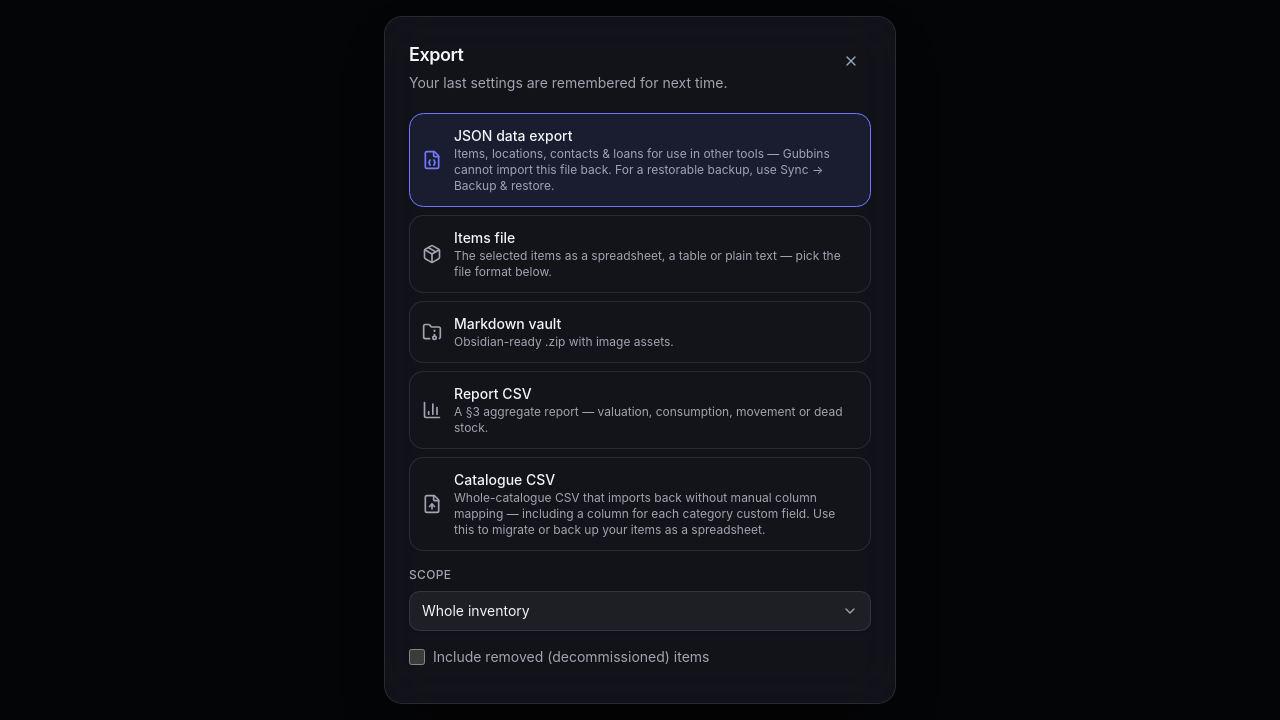
Test case: ExportWizard — Location scope › lists known locations with an item-count hint in the target picker
The image size is (1280, 720).
Click the dropdown named "Scope" at (640, 611), box [409, 591, 871, 631]
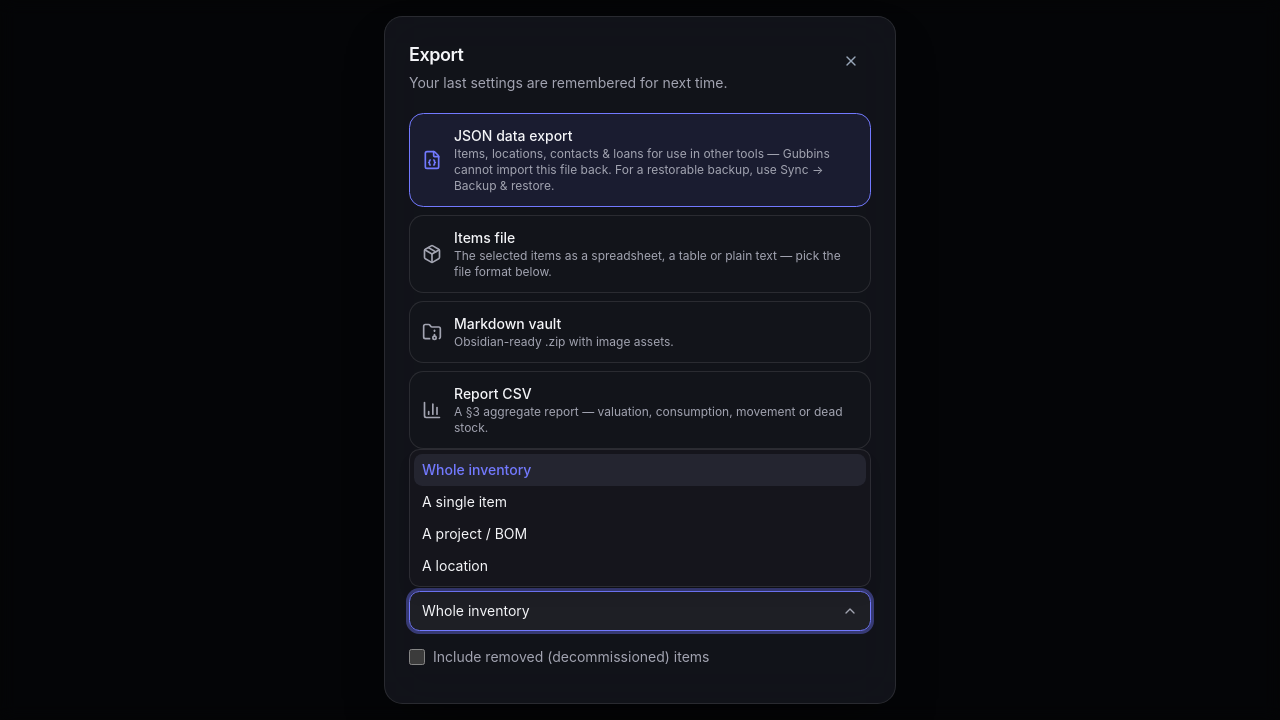
Click the option "A location" at (455, 566), box [422, 557, 488, 574]
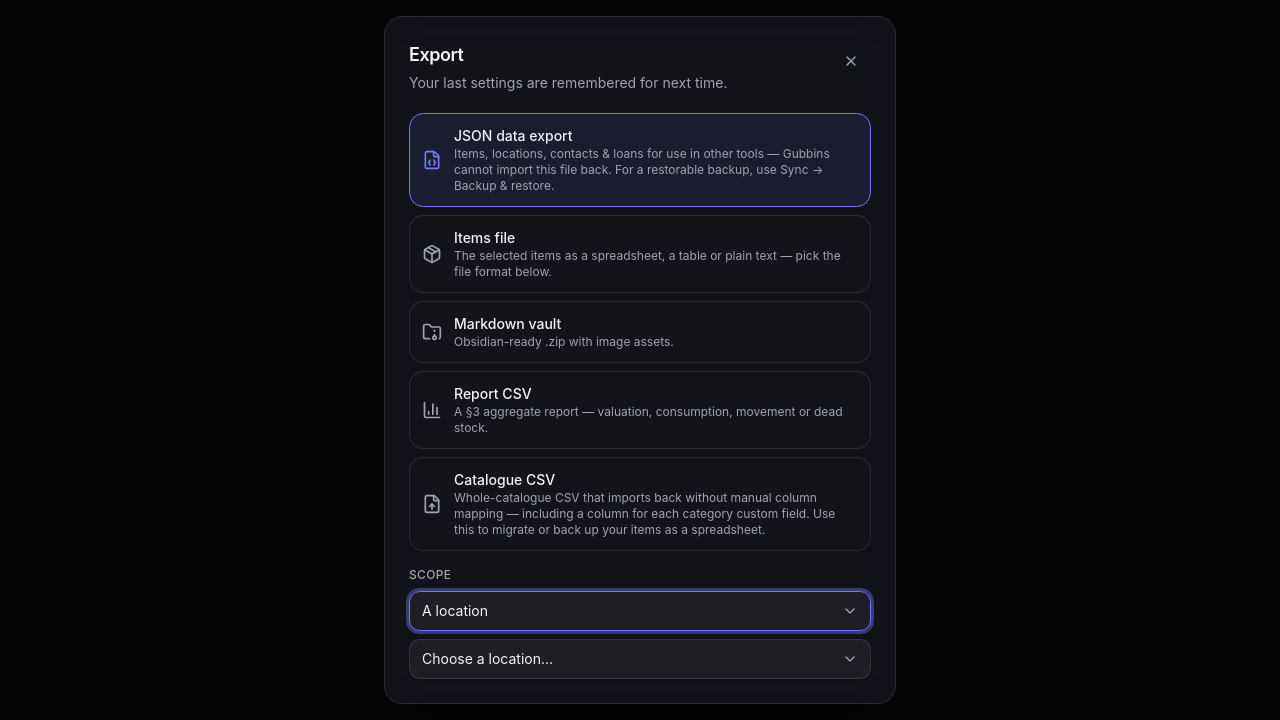
Click the dropdown named "Location to export" at (640, 659), box [409, 639, 871, 679]
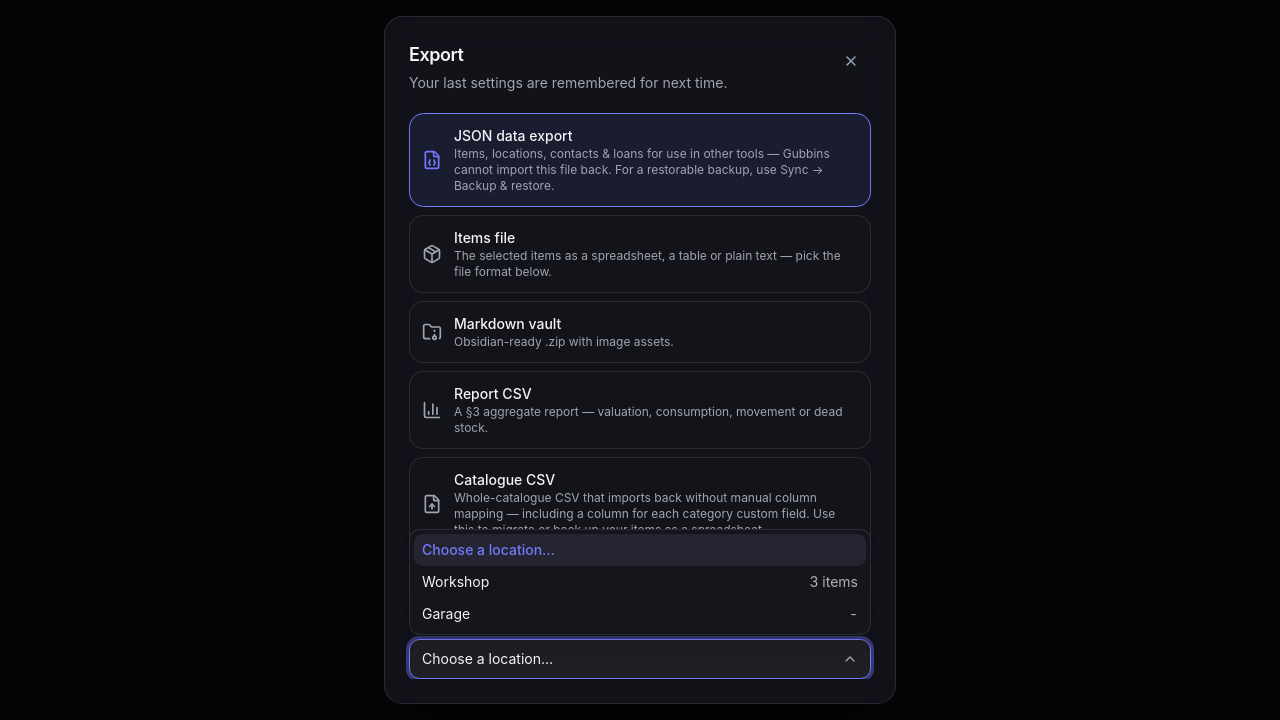
Check: the option "Workshop 3 items" is shown, box [422, 573, 858, 590]
Check: the option "Garage -" is shown, box [422, 605, 858, 622]
